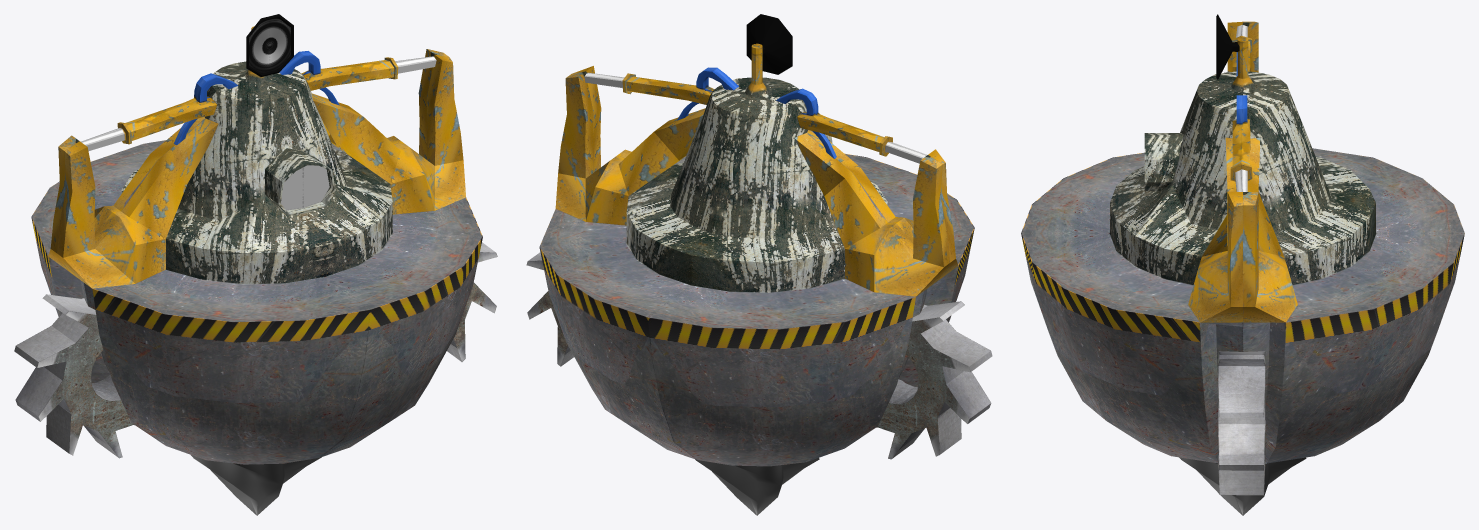
The model's file is character.fbx.
3 renders of one model, left to right at view 1: azimuth 30°, elevation 25°; view 2: azimuth 150°, elevation 25°; view 3: azimuth 270°, elevation 25°, orthographic. The views are drawn at different scales.
Parts seen in each view (by area): view 1: CHar_UV1, saw:pCylinder3, drill:pCone1, pCylinder3; view 2: CHar_UV1, saw:pCylinder3, drill:pCone1, pCylinder3; view 3: CHar_UV1, pCylinder3, drill:pCone1.
Part boxes in pixels (<box>): CHar_UV1: <box>31,14,482,464</box>; saw:pCylinder3: <box>14,294,134,458</box>; drill:pCone1: <box>191,455,321,515</box>; pCylinder3: <box>447,242,497,361</box>; CHar_UV1: <box>539,14,974,466</box>; saw:pCylinder3: <box>876,301,992,459</box>; drill:pCone1: <box>695,458,819,515</box>; pCylinder3: <box>526,252,573,366</box>; CHar_UV1: <box>1021,14,1464,463</box>; pCylinder3: <box>1218,351,1265,495</box>; drill:pCone1: <box>1179,457,1306,515</box>.
Size of the model in its own units: 8.09 by 8.54 by 6.9.
